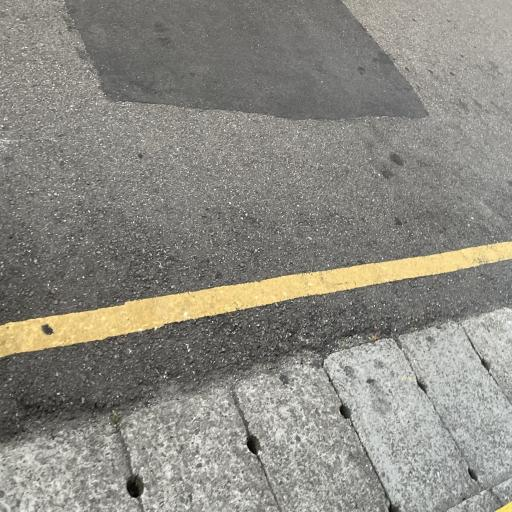yellowline: (0, 232, 512, 369)
